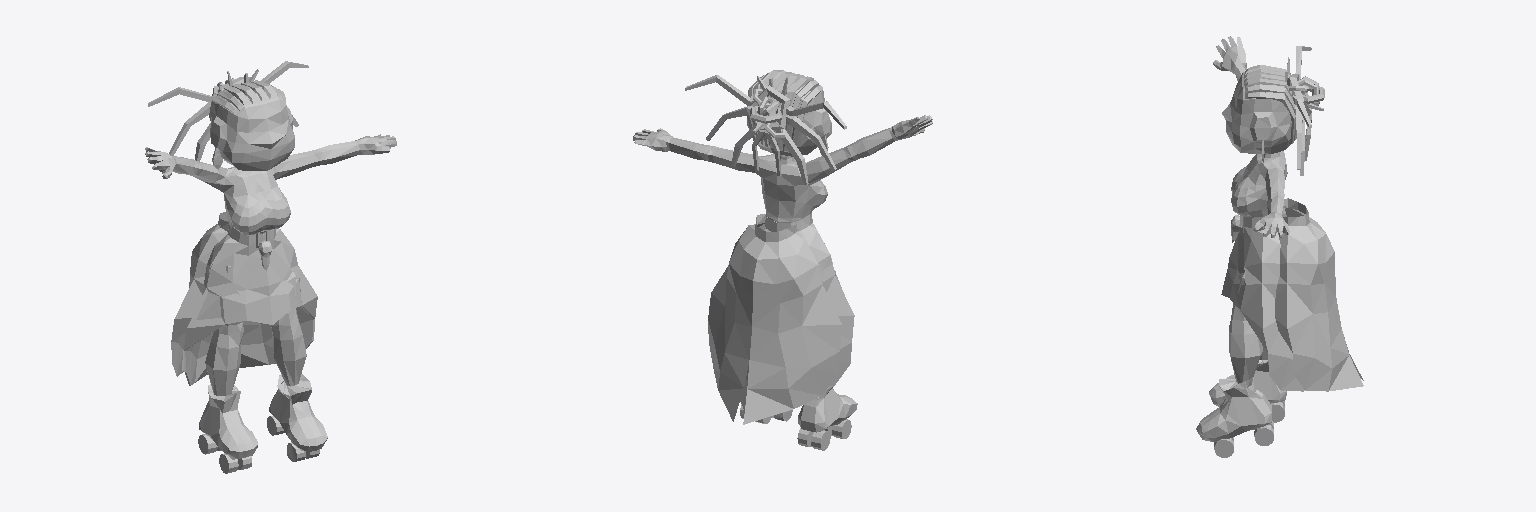
The model's file is WitchFINAL_000056.obj.
3 renders of one model, left to right at view 1: azimuth 30°, elevation 25°; view 2: azimuth 150°, elevation 25°; view 3: azimuth 270°, elevation 25°, orthographic.
Parts seen in each view (by area): view 1: Body_Cylinder, Torso(Boobies)_Cylinder.002, LegR_Cube.004, LegL_Cube.003, Head_Cylinder.004, ZBody_Cylinder.001, Hair_Cylinder.006, Tail.001_Torus.001; view 2: ZBody_Cylinder.001, Torso(Boobies)_Cylinder.002, Body_Cylinder, LegR_Cube.004, Hair_Cylinder.006, Tail.001_Torus.001, Tail_Torus, Tail.002_Torus.002, Head_Cylinder.004; view 3: ZBody_Cylinder.001, Body_Cylinder, LegL_Cube.003, Torso(Boobies)_Cylinder.002, Head_Cylinder.004, Hair_Cylinder.006, LegR_Cube.004, Tail_Torus, Tail.002_Torus.002.
Part boxes in pixels (x1,y1,x2,y2): Body_Cylinder: (184, 225, 317, 385); Torso(Boobies)_Cylinder.002: (145, 134, 396, 235); LegR_Cube.004: (198, 266, 257, 473); LegL_Cube.003: (267, 270, 327, 461); Head_Cylinder.004: (210, 82, 294, 170); ZBody_Cylinder.001: (171, 212, 228, 376); Hair_Cylinder.006: (209, 80, 285, 120); Tail.001_Torus.001: (148, 87, 216, 161); ZBody_Cylinder.001: (708, 214, 841, 424); Torso(Boobies)_Cylinder.002: (633, 115, 932, 222); Body_Cylinder: (740, 213, 854, 410); LegR_Cube.004: (797, 387, 857, 450); Hair_Cylinder.006: (747, 70, 822, 152); Tail.001_Torus.001: (765, 101, 846, 184); Tail_Torus: (750, 76, 790, 137); Tail.002_Torus.002: (685, 75, 764, 171); Head_Cylinder.004: (747, 79, 831, 156); ZBody_Cylinder.001: (1275, 198, 1363, 391); Body_Cylinder: (1221, 212, 1305, 391); LegL_Cube.003: (1196, 269, 1273, 457); Torso(Boobies)_Cylinder.002: (1213, 36, 1289, 237); Head_Cylinder.004: (1222, 71, 1293, 153); Hair_Cylinder.006: (1244, 65, 1302, 143); LegR_Cube.004: (1209, 345, 1286, 422); Tail_Torus: (1285, 57, 1324, 115); Tail.002_Torus.002: (1292, 95, 1311, 175).
Bounding box in the file's own units: 12.65 × 16.6 × 6.77.